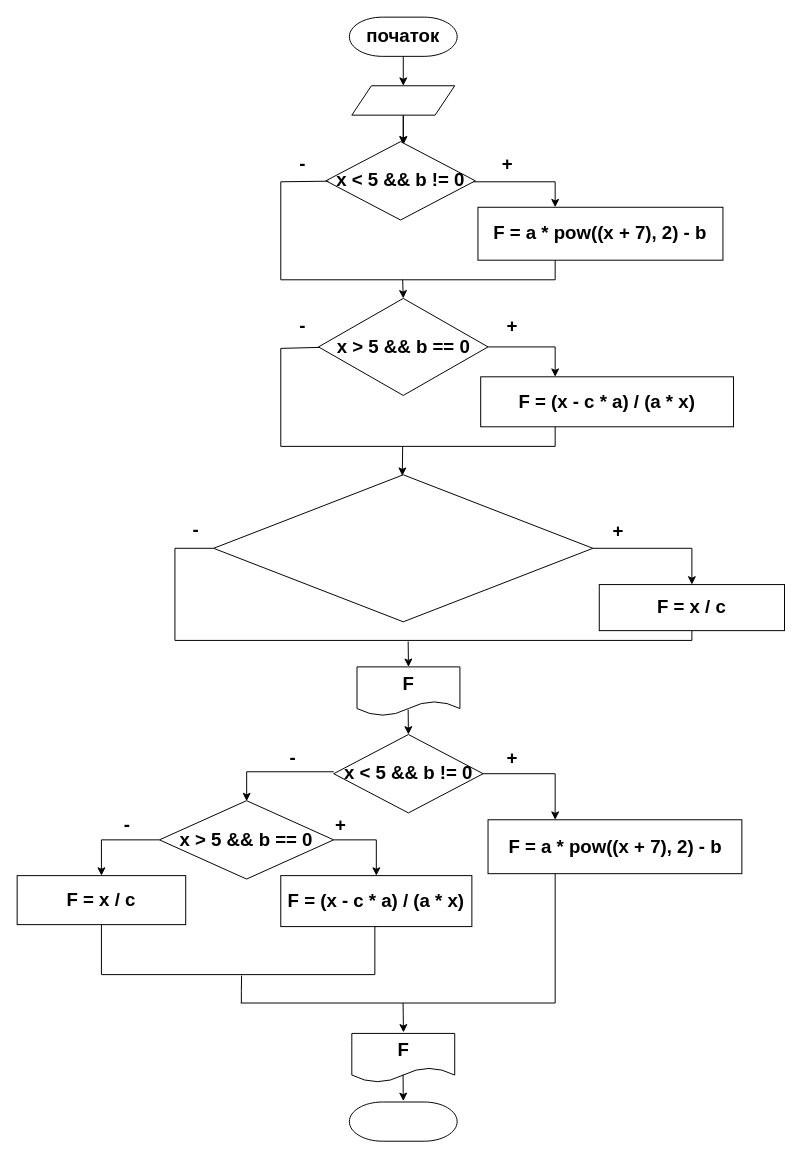
Some shapes in this 802 by 1158 pixel diagram are drawn without their labels. Each missing label, with the centre of its shape:
"!(x < 5 && b != 0) && !(x > 5 && b == 0)" belongs at pixel 403 548.
"x,a,b,c" belongs at pixel 403 100.
"кінець" belongs at pixel 402 1121.
